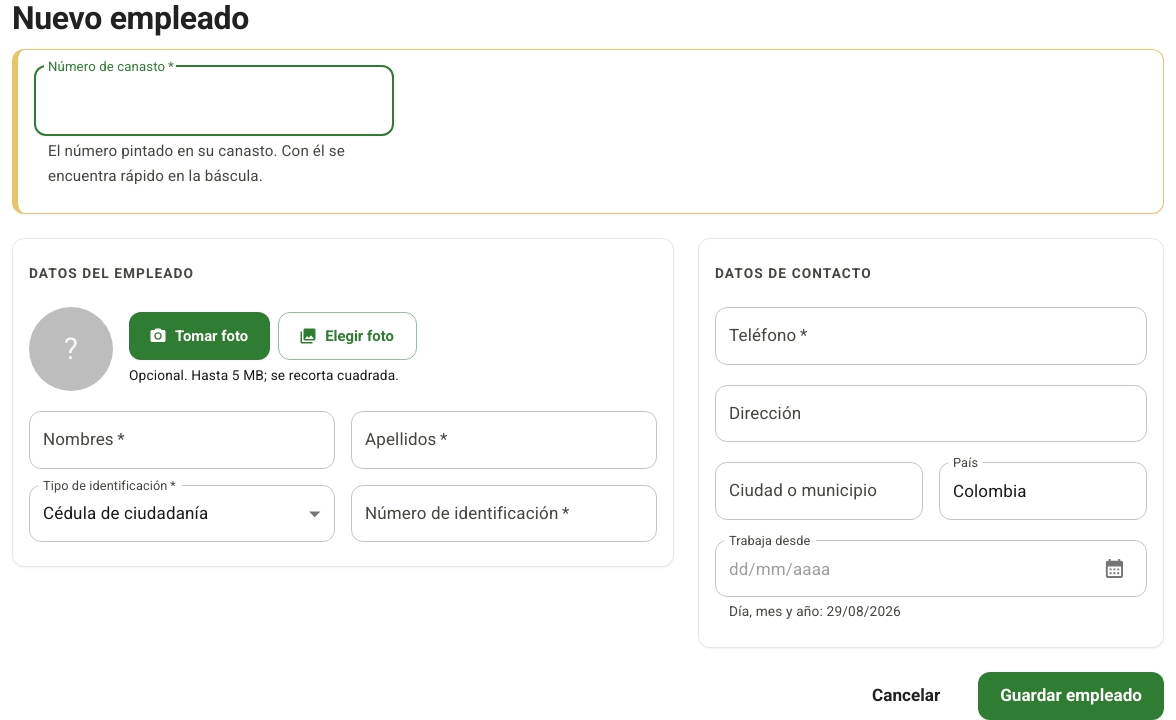
it: before anything is sent › asks for each missing piece in plain words
(page scrolled)
Click the button "Guardar empleado": x=1071, y=696 [978,672,1164,719]
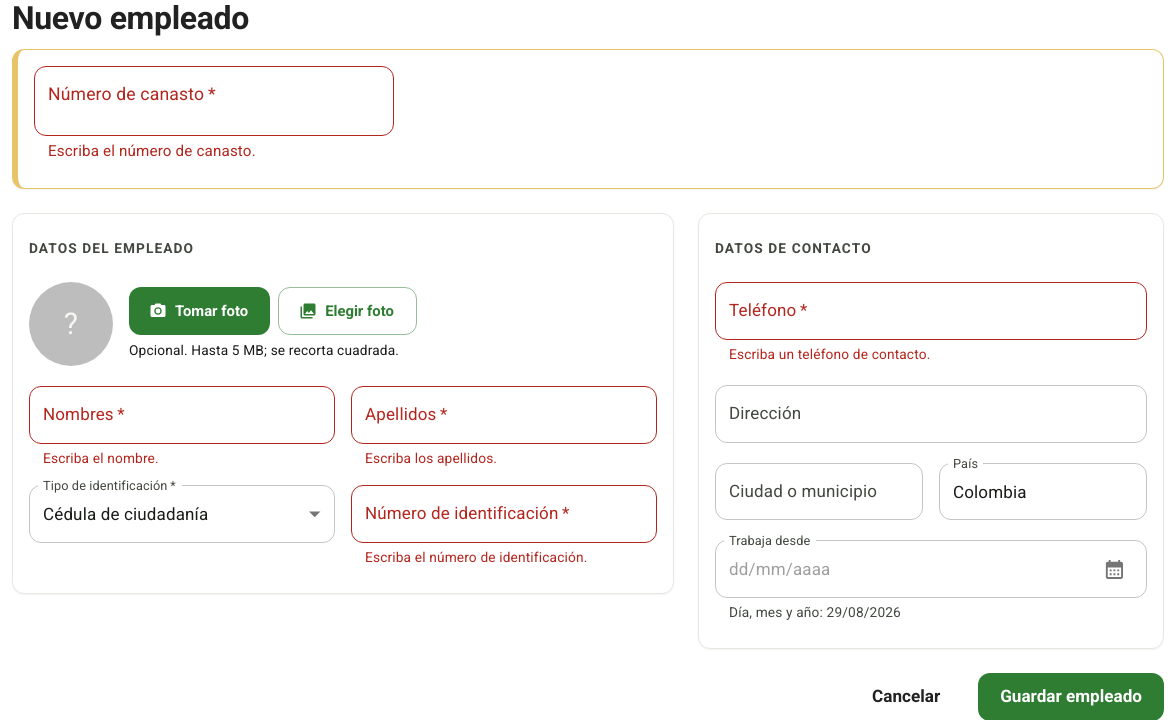
Check: the text "Escriba el nombre." is shown, box [43,450,159,466]
Check: the text "Escriba los apellidos." is shown, box [365,450,497,466]
Check: the text "Escriba el número de identificación." is shown, box [365,549,587,565]
